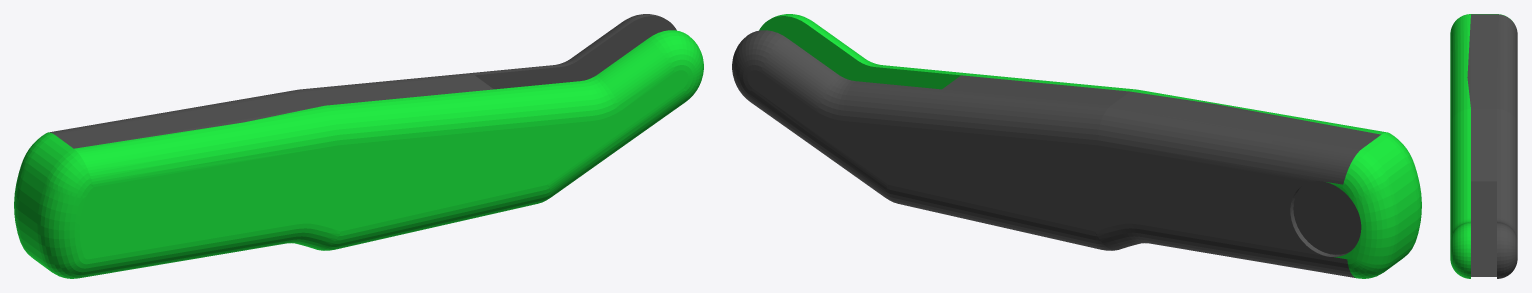
File: right_thigh.dae
3 views of the same model, side by side, from view 1: azimuth 30°, elevation 25°; view 2: azimuth 150°, elevation 25°; view 3: azimuth 270°, elevation 25° (orthographic). The views are drawn at different scales.
Visible parts, largest first — view 1: Right Thign; view 2: Right Thign; view 3: Right Thign.
Boxes of the visible parts, left/top/right/bottom form: Right Thign: left=14, top=14, right=703, bottom=278; Right Thign: left=732, top=14, right=1421, bottom=278; Right Thign: left=1450, top=14, right=1517, bottom=278.
Size of the model in its own units: 0.4961 by 0.065 by 0.1178.
